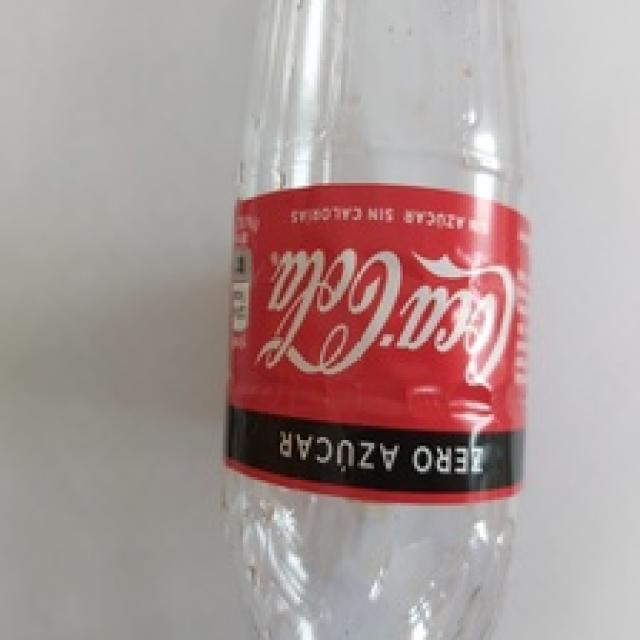plastic: (216, 0, 546, 640)
